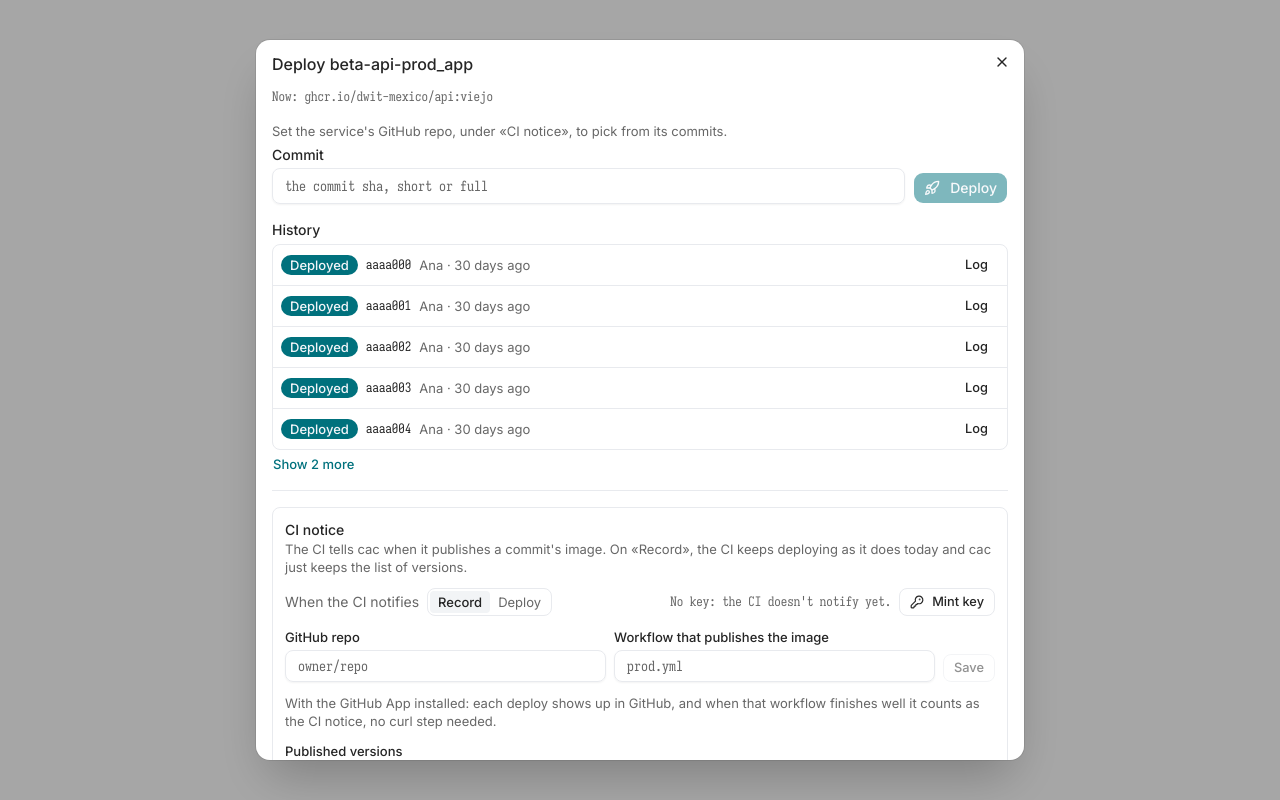
Test: el historial y su log › enseña cinco y el resto con «Ver más», sin caja con scroll propio
Expected: the list named "History" is shown, [272,244,1008,450]
Expected: the number of list items is 5, [273,245,1007,286]; [273,286,1007,327]; [273,327,1007,368]; [273,368,1007,409]; [273,409,1007,449]
Click the button "Show 2 more".
click(314, 464)  # box [272,454,355,474]
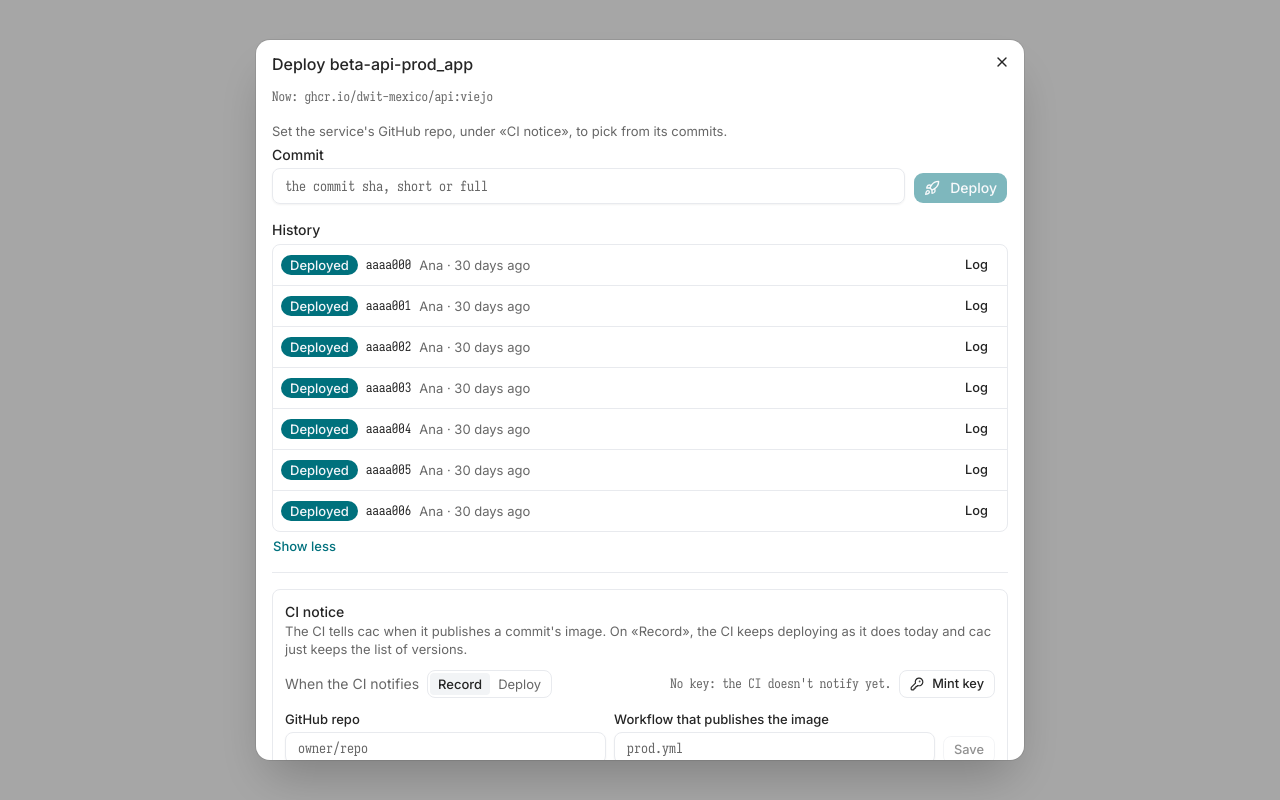
Now the number of list items is 7
